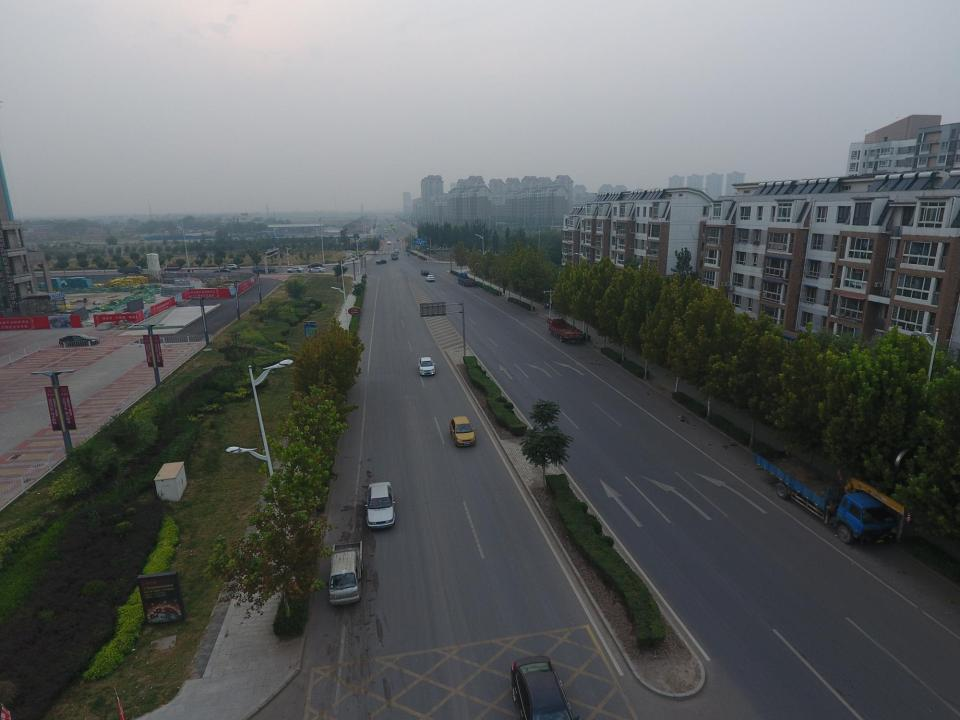car: (510, 655, 583, 720), (364, 481, 396, 531), (449, 416, 477, 447), (58, 334, 100, 346), (418, 356, 436, 376), (213, 268, 231, 274), (221, 264, 239, 270), (286, 266, 304, 272), (308, 267, 326, 273), (308, 262, 322, 268), (425, 275, 435, 282), (376, 259, 387, 265), (421, 270, 429, 276), (394, 248, 399, 253), (387, 241, 391, 244), (386, 234, 389, 236), (385, 230, 387, 233), (384, 228, 386, 230), (384, 226, 386, 228)
truck: (755, 450, 899, 546), (326, 540, 364, 607), (547, 317, 593, 346), (458, 273, 476, 286), (117, 266, 143, 274), (252, 266, 276, 274), (161, 264, 182, 271), (391, 254, 398, 260), (396, 238, 400, 242)
van: (298, 235, 304, 239), (388, 228, 391, 231)
